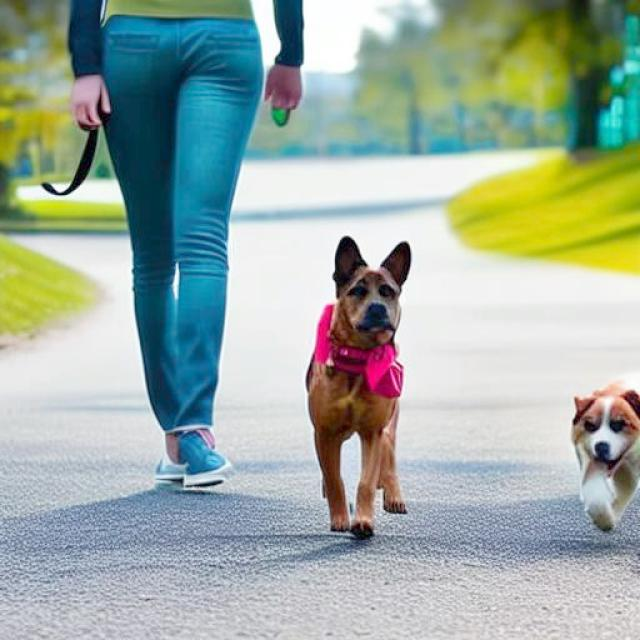Dog: (570, 382, 640, 534)
Unleashed_Dog: (104, 16, 413, 539)
